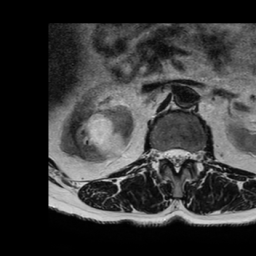CCS_normal: (173, 140, 181, 176)
LFS_normal: (189, 144, 198, 165)
LLS_normal: (181, 141, 189, 165)
RFS_normal: (156, 143, 164, 165)
RLS_normal: (164, 141, 173, 166)
